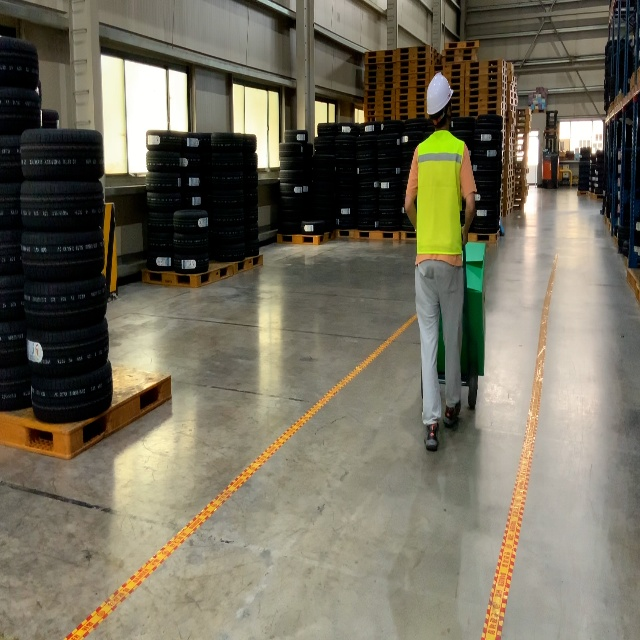Worker: (404, 71, 478, 452)
